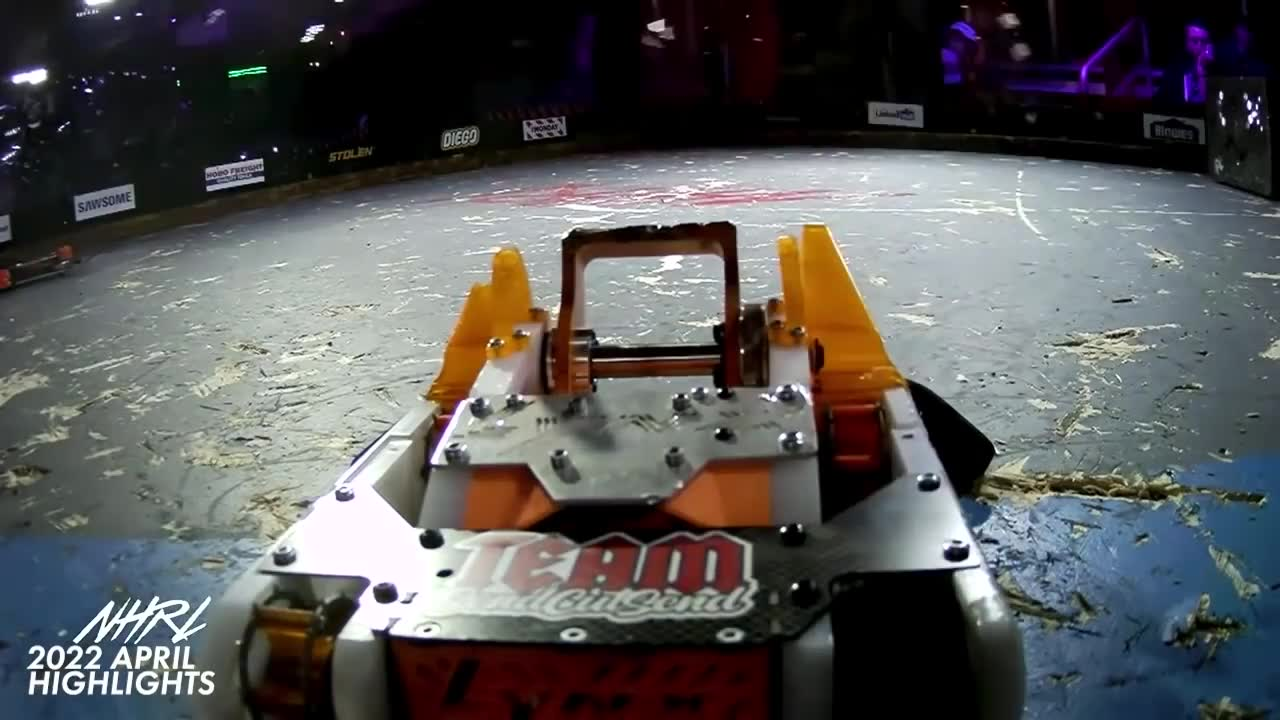combatbot: (205, 226, 1024, 720), (1, 241, 81, 290)
housebot: (1205, 76, 1278, 201)
